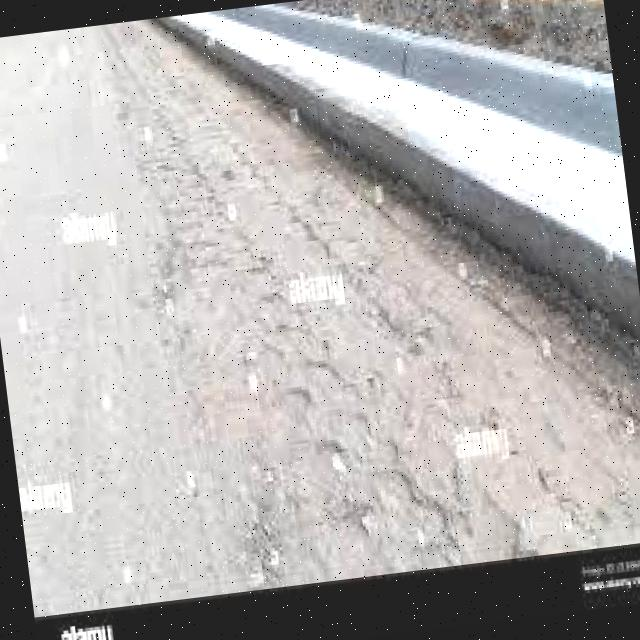curb: (291, 3, 507, 255), (478, 76, 640, 335), (168, 1, 336, 109)
